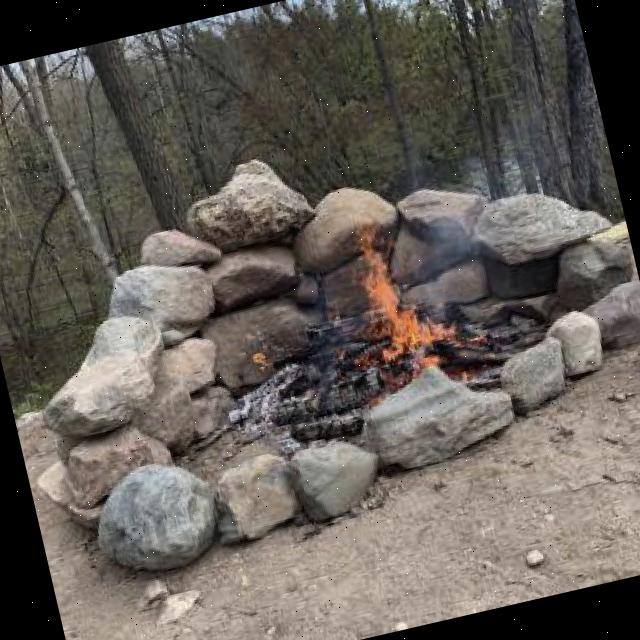fire: (341, 211, 462, 385)
